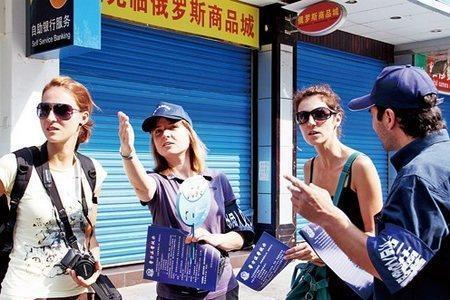no_mask: (346, 67, 443, 155), (38, 77, 91, 145), (290, 85, 341, 147), (141, 99, 194, 157)
